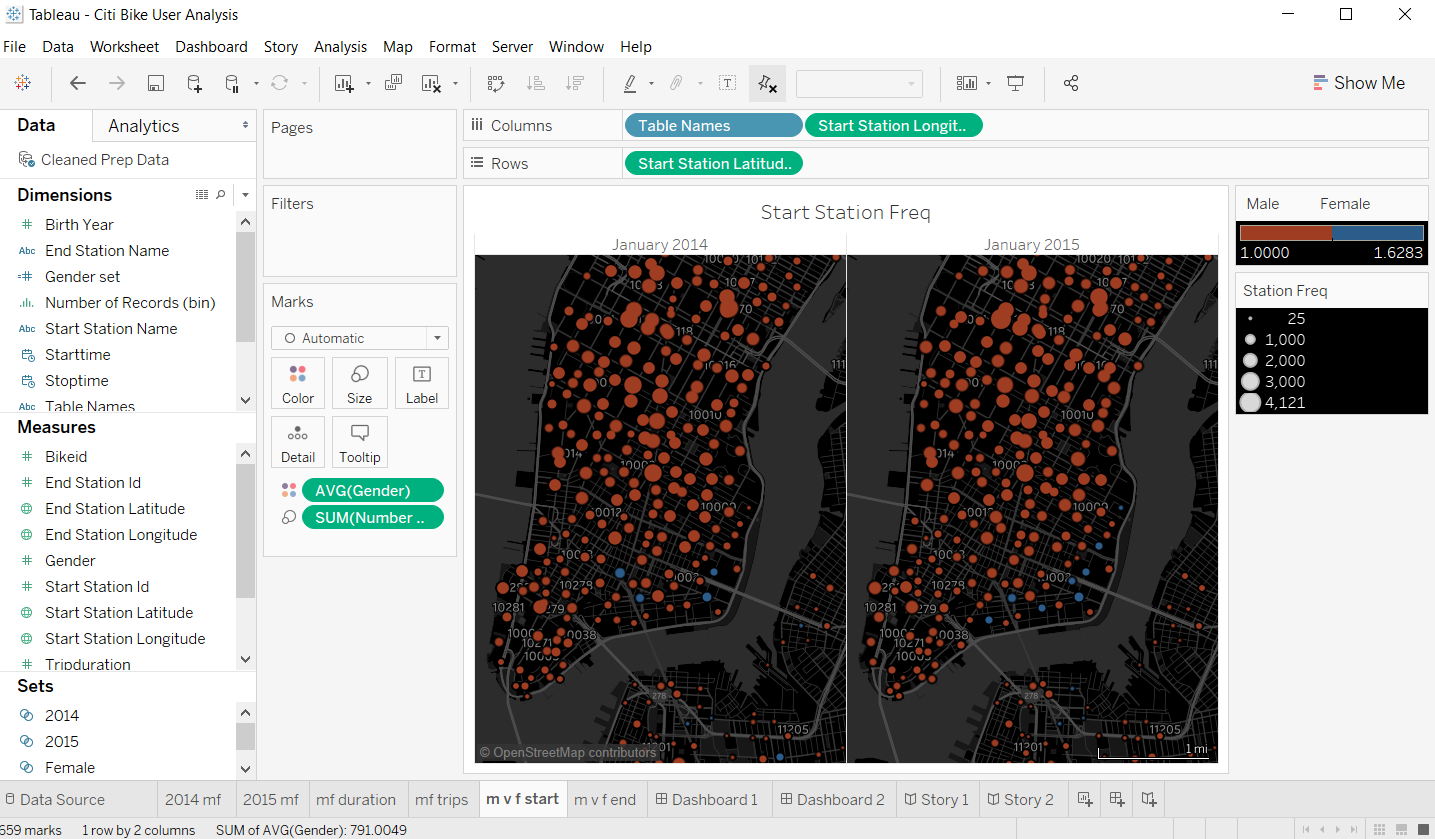

This screenshot's page, from the dashboard's own definition file:
{"tool":"tableau","page":{"name":"Dashboard 2","canvas":[1000,800],"ordinal":1},"visuals":[{"type":"worksheet","title":"m v f start","mark":"Automatic","rows":["start station latitude"],"cols":["Table Names","start station longitude"],"box":[8,8,481,784]},{"type":"worksheet","title":"m v f end","mark":"Automatic","rows":["end station latitude"],"cols":["Table Names","end station longitude"],"box":[489,8,503,784]},{"type":"legend","title":"m v f start","param":"[federated.17gh1hu1p55obe1h41my81sug3v9].[sum:Number of Records:qk]","box":[744,76,113,133]},{"type":"legend","title":"m v f start","param":"[federated.17gh1hu1p55obe1h41my81sug3v9].[avg:gender:qk]","box":[423,77,140,88]}]}

Visuals, with their boxes on the page's 1000x800 design canvas (x1, y1, x2, y2). These are canvas units, not pixel positions in the 1435x839 screenshot, which may show the page scaled, cropped or inside an application window:
"m v f start" worksheet: 8 8 489 792
"m v f end" worksheet: 489 8 992 792
"m v f start" legend: 744 76 857 209
"m v f start" legend: 423 77 563 165
